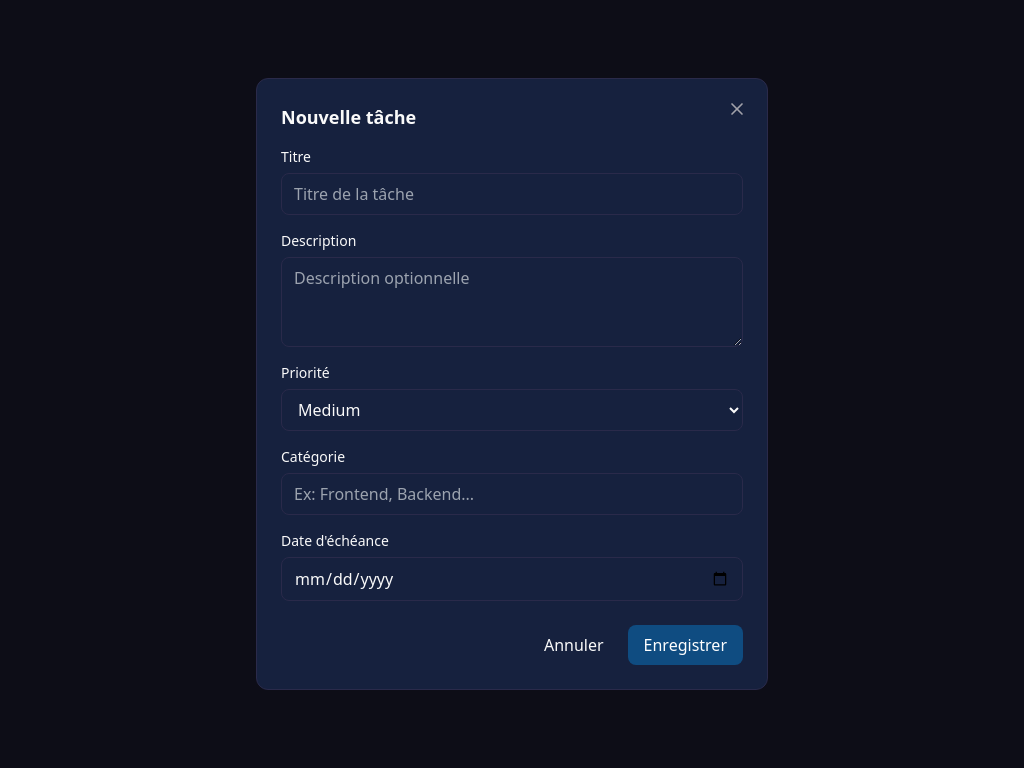
Test case: TaskFormDialog — Création de tâche › affiche une erreur si titre vide au submit
This screenshot has width=1024, height=768.
Click the button "Enregistrer" at (685, 645), box [628,625,743,665]
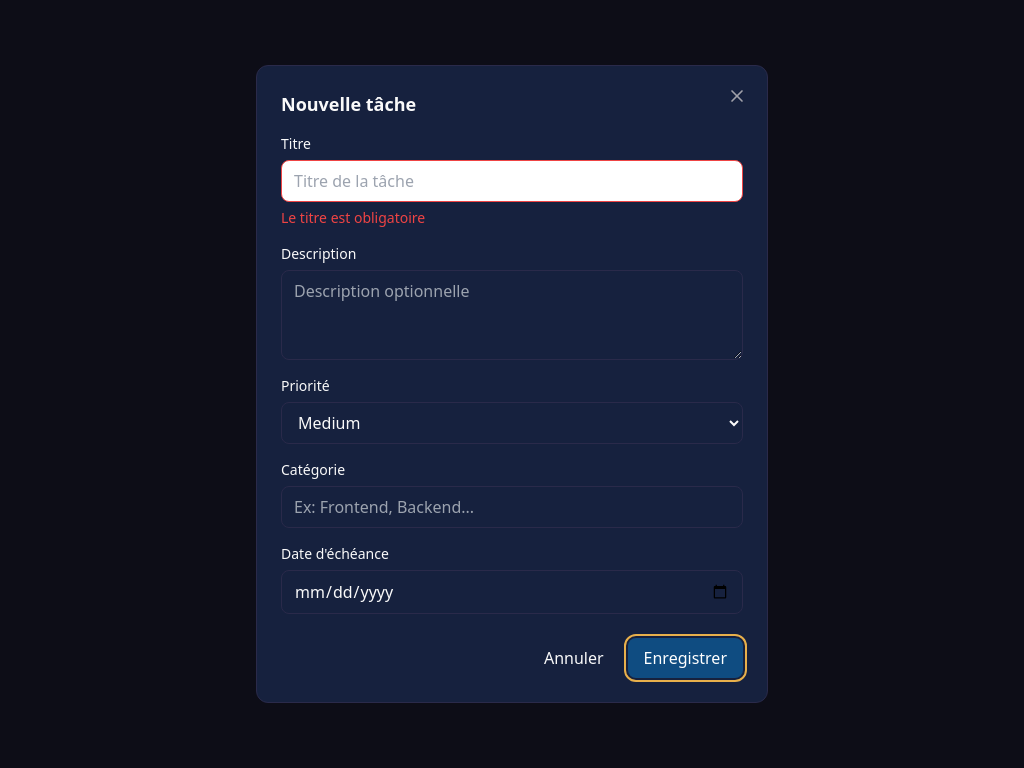
Now the text "Le titre est obligatoire" is shown, box [281,208,425,227]
